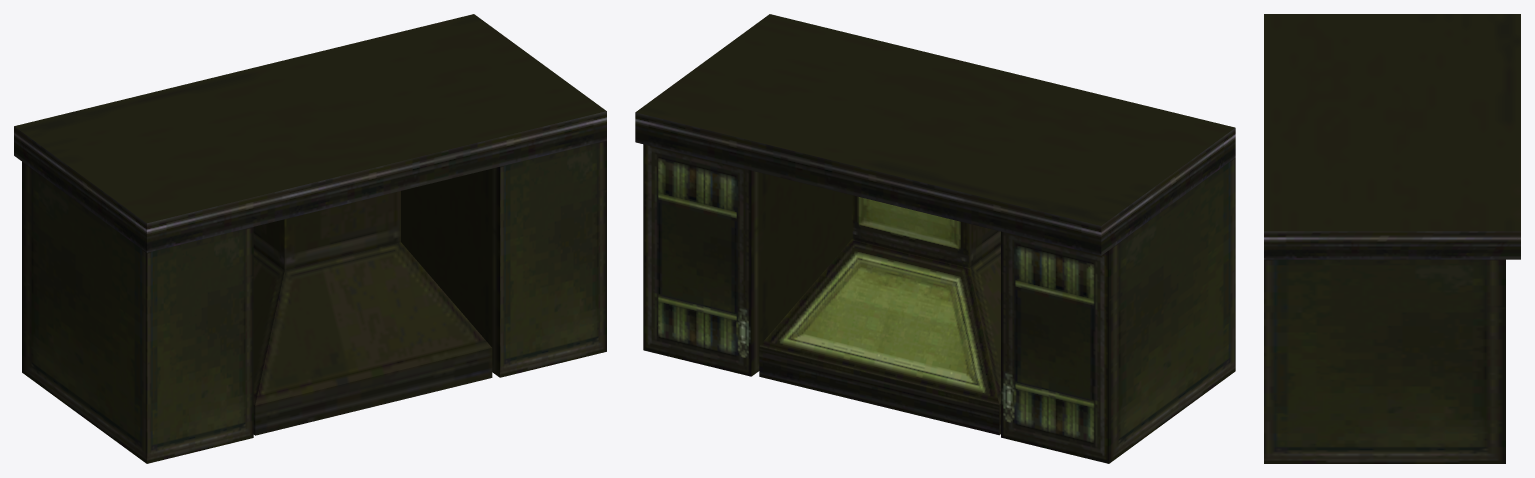
File: furni_0201223_03.FBX
3 views of the same model, side by side, from view 1: azimuth 30°, elevation 25°; view 2: azimuth 150°, elevation 25°; view 3: azimuth 270°, elevation 25° (orthographic). The views are drawn at different scales.
Visible parts, largest first — view 1: furni_0201223_03; view 2: furni_0201223_03; view 3: furni_0201223_03.
Part boxes in pixels (x1=…): furni_0201223_03: x1=14, y1=14, x2=606, y2=463; furni_0201223_03: x1=635, y1=14, x2=1235, y2=463; furni_0201223_03: x1=1264, y1=14, x2=1520, y2=463.
Bounding box in the file's own units: 160 × 80.03 × 80.
